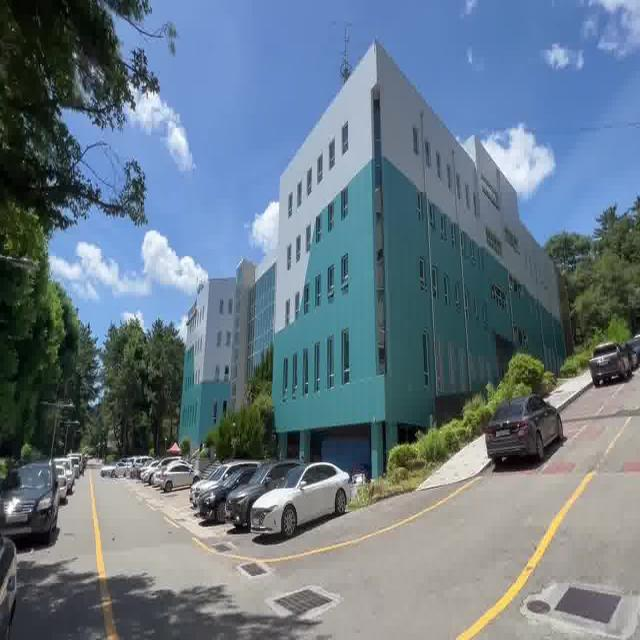building: (177, 75, 507, 396)
